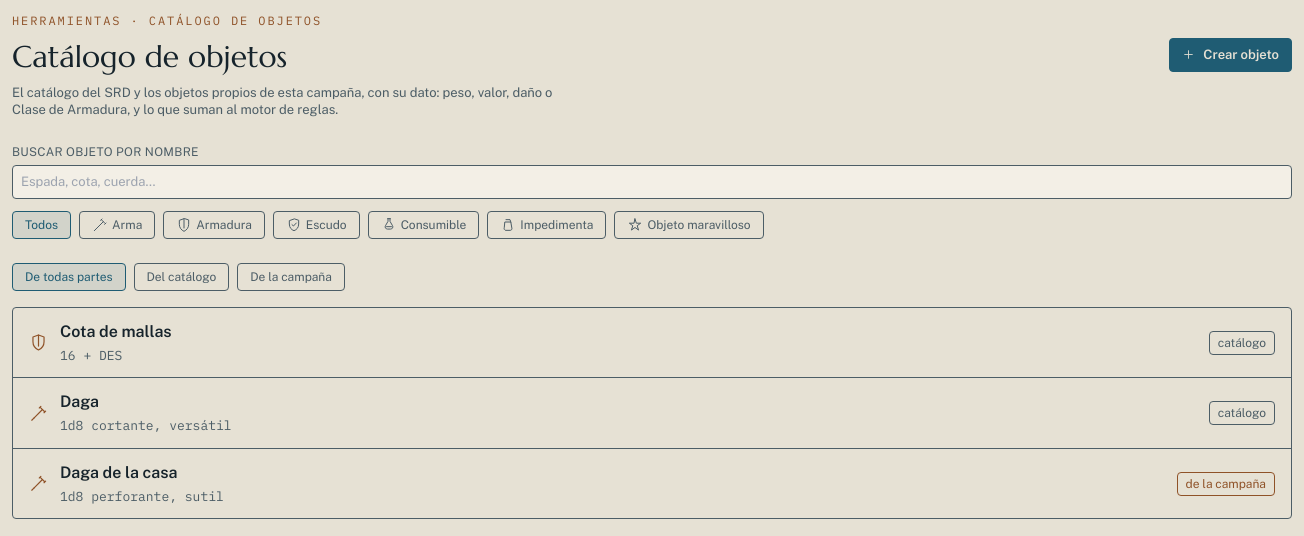
Test: CampaignItemsCatalogPage — filtros (anexo #21) › filtra por tipo y por origen con chips, como el bestiario (anexo #21)
The image size is (1304, 536).
expect the number of buttons "Cota de mallas 16 + DES catálogo" is 3: met, box [13, 308, 1291, 378]; [13, 378, 1291, 449]; [13, 449, 1291, 518]
Click the button "Arma": (117, 225) [79, 211, 155, 239]
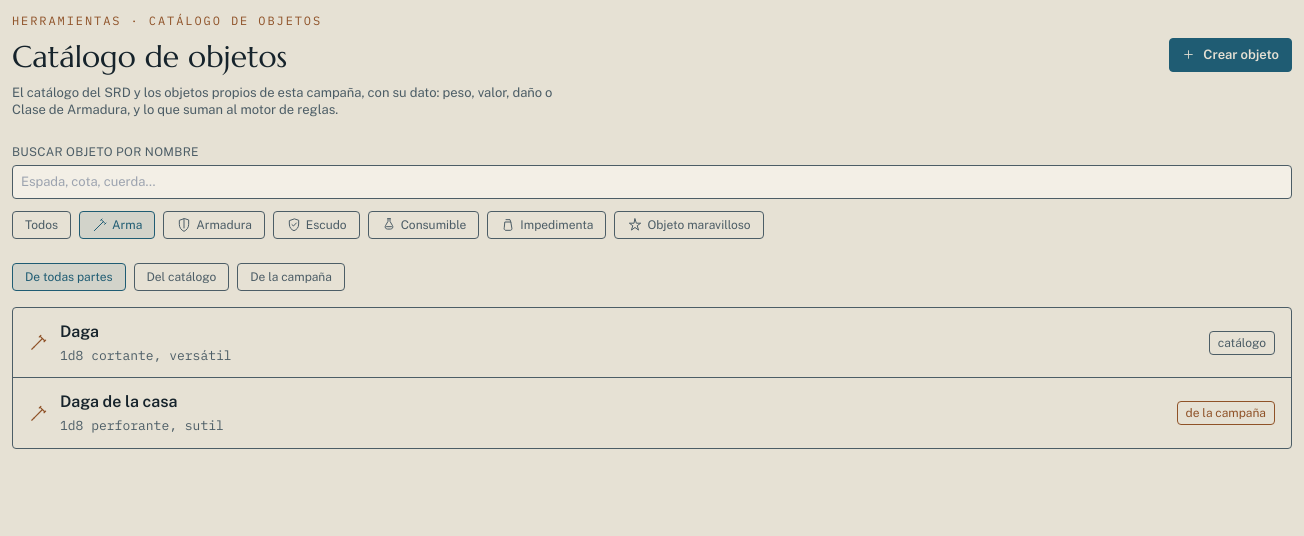
expect the number of buttons "Daga 1d8 cortante, versátil catálogo" is 2: met, box [13, 308, 1291, 378]; [13, 378, 1291, 448]
expect the button "Cota de mallas" is gone: met
Click the button "De la campaña": (291, 277) [237, 263, 345, 291]
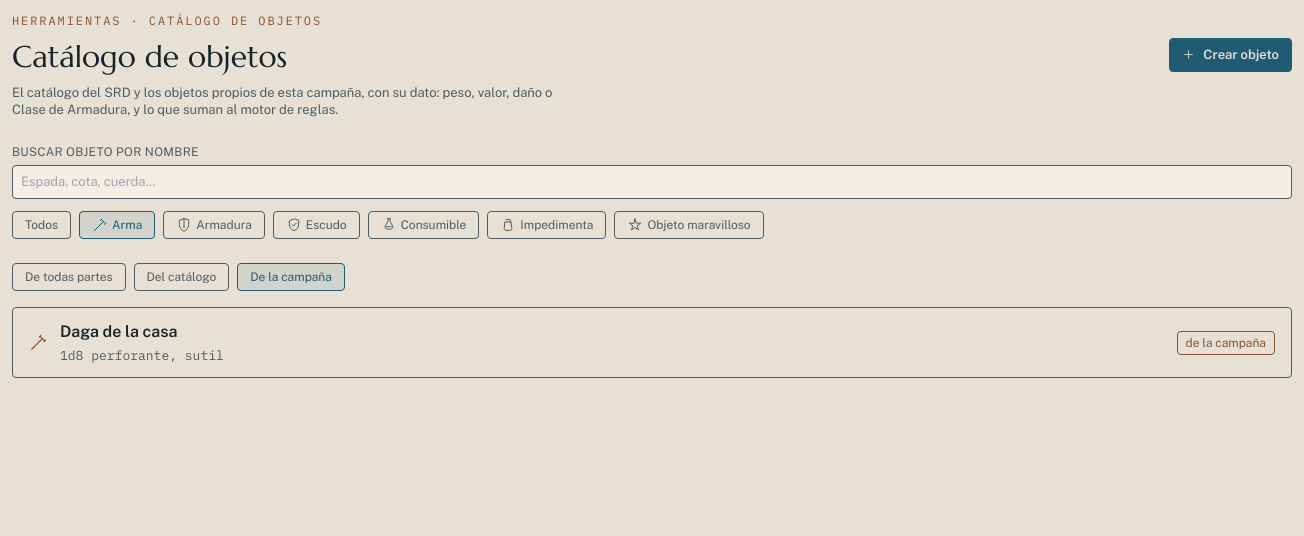
expect the text "Daga de la casa" is shown: met, box [60, 322, 177, 341]
expect the number of buttons "Daga de la casa 1d8 perforante, sutil de la campaña" is 1: met, box [13, 308, 1291, 377]
